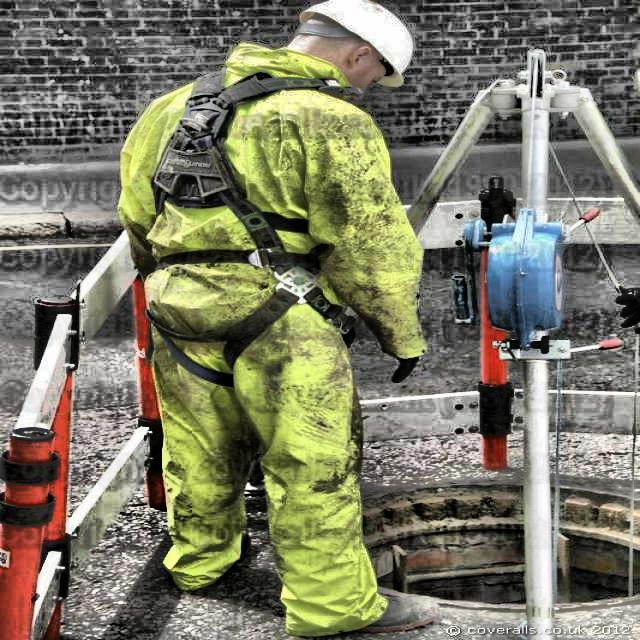person: (115, 0, 434, 640)
